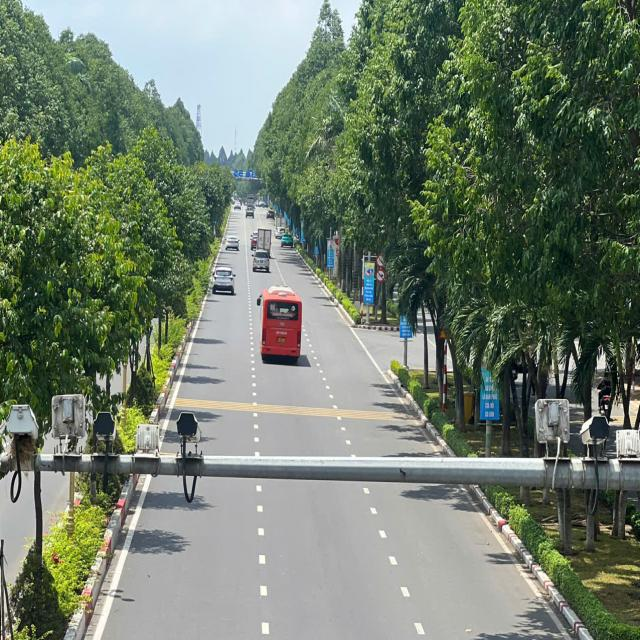ben: (254, 222, 277, 260)
car: (257, 286, 306, 370), (209, 261, 237, 298), (250, 242, 274, 278), (223, 229, 242, 258), (280, 227, 298, 251)
